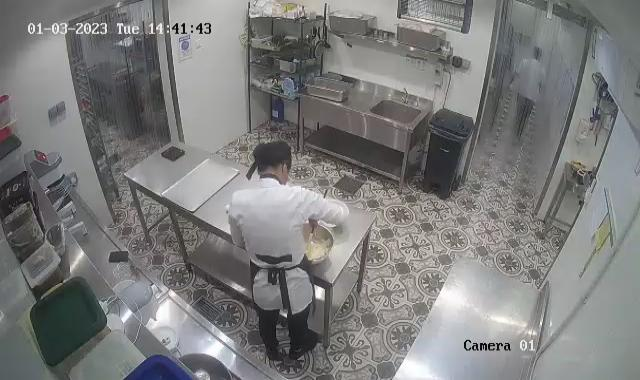no_hairnet: (252, 139, 293, 179)
